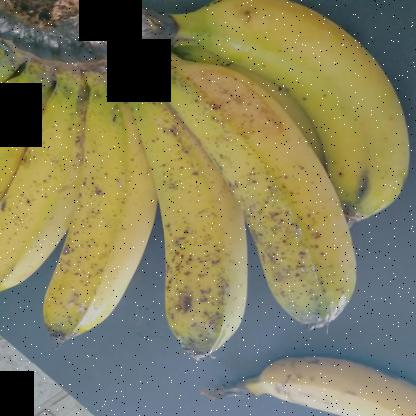freshripe: (220, 1, 407, 222)
ripe: (172, 76, 354, 322), (114, 66, 255, 366), (22, 78, 160, 345), (1, 38, 82, 312), (240, 353, 415, 415)
